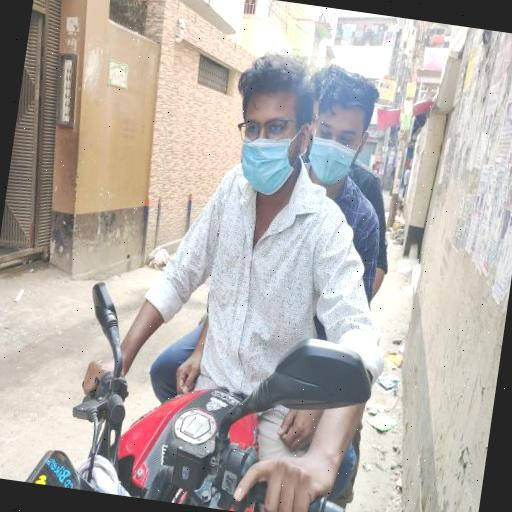no helmet: (188, 44, 382, 259)
triple riding: (10, 9, 429, 512)
